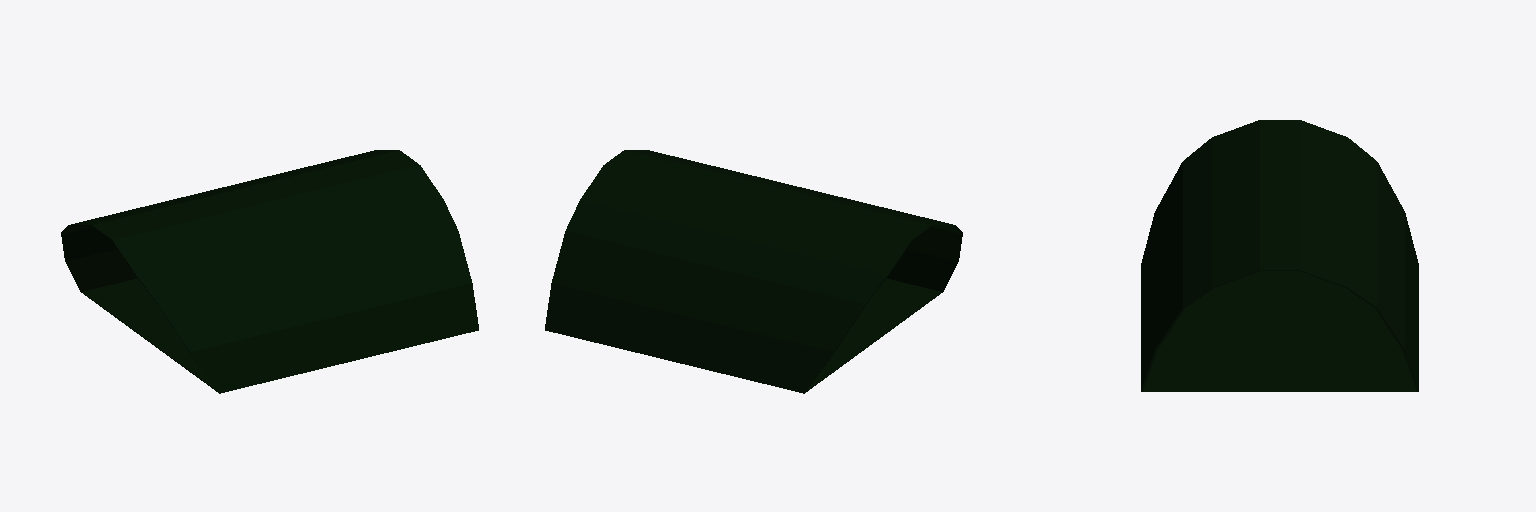
The model's file is ШП1 Соединение ШП5.obj.
3 views of the same model, side by side, from view 1: azimuth 30°, elevation 25°; view 2: azimuth 150°, elevation 25°; view 3: azimuth 270°, elevation 25° (orthographic).
Visible parts, largest first — view 1: Cube; view 2: Cube; view 3: Cube.
Part boxes in pixels (x1,y1,x2,y2): Cube: (61, 150, 478, 393); Cube: (545, 150, 962, 393); Cube: (1141, 120, 1418, 391).
Bounding box in the file's own units: 7.66 × 2.9 × 6.